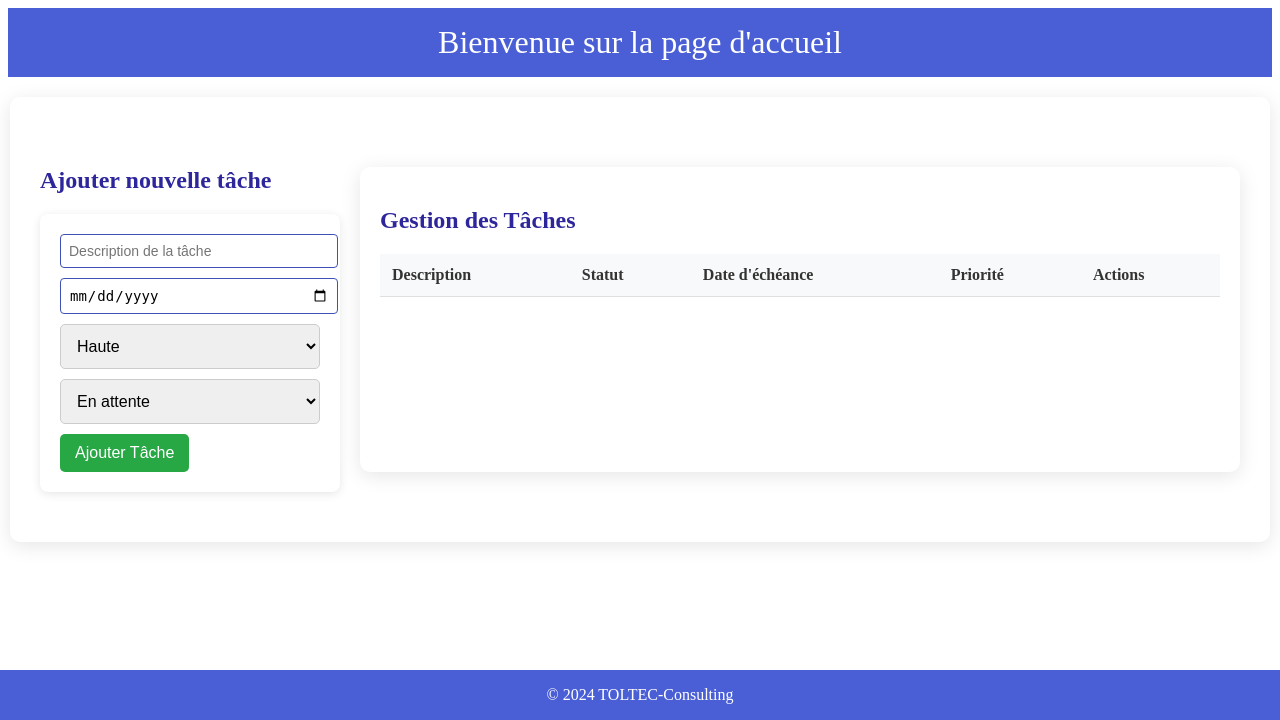
Test: Task Manager E2E Tests › should delete a task
# Ajoute une tâche
Type "Tâche à supprimer" into the field named "description" at (199, 251), box [60, 234, 338, 268]
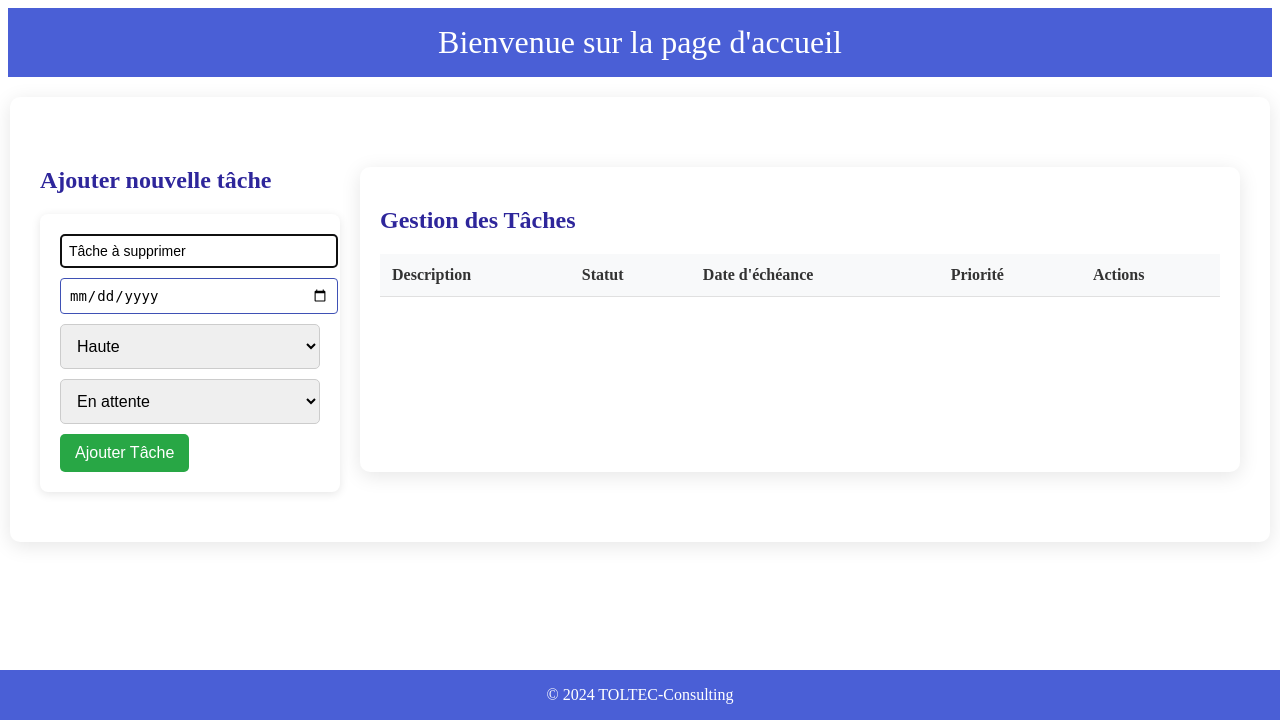
Select "Haute" in the 1st dropdown named "priority" at (190, 347), box [60, 324, 320, 369]
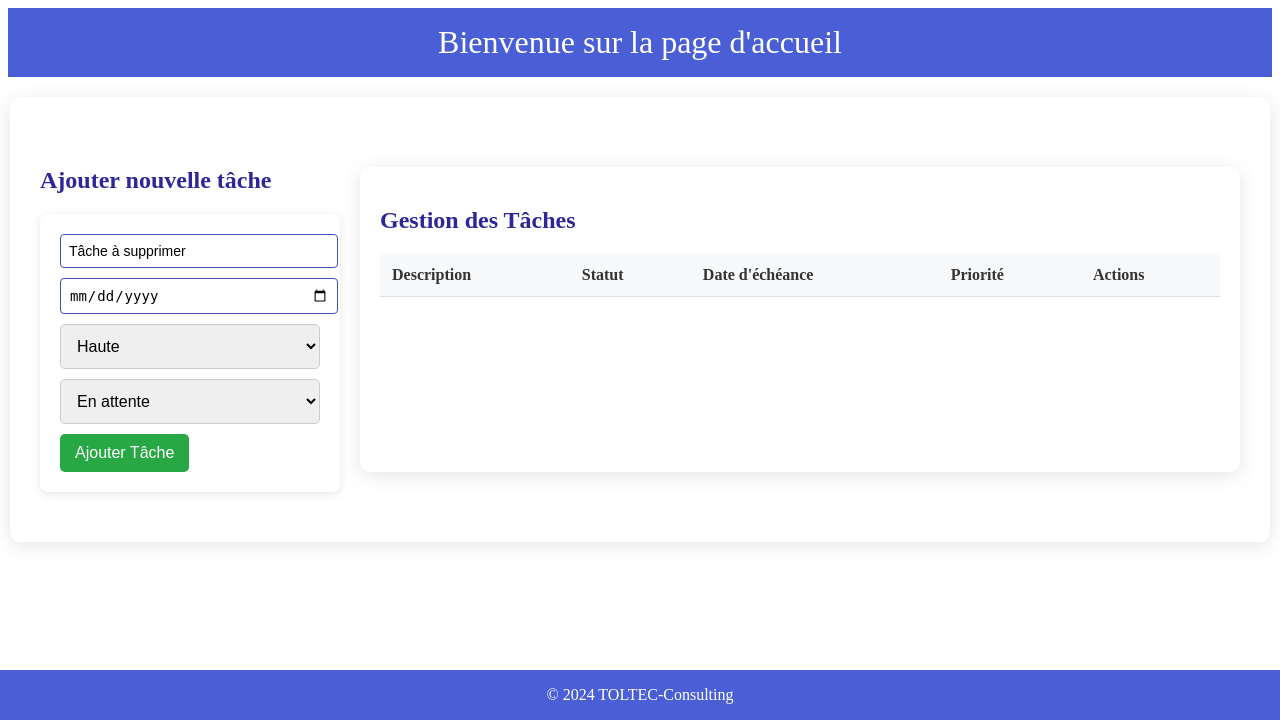
Click the submit button at (125, 453), box [60, 434, 189, 472]
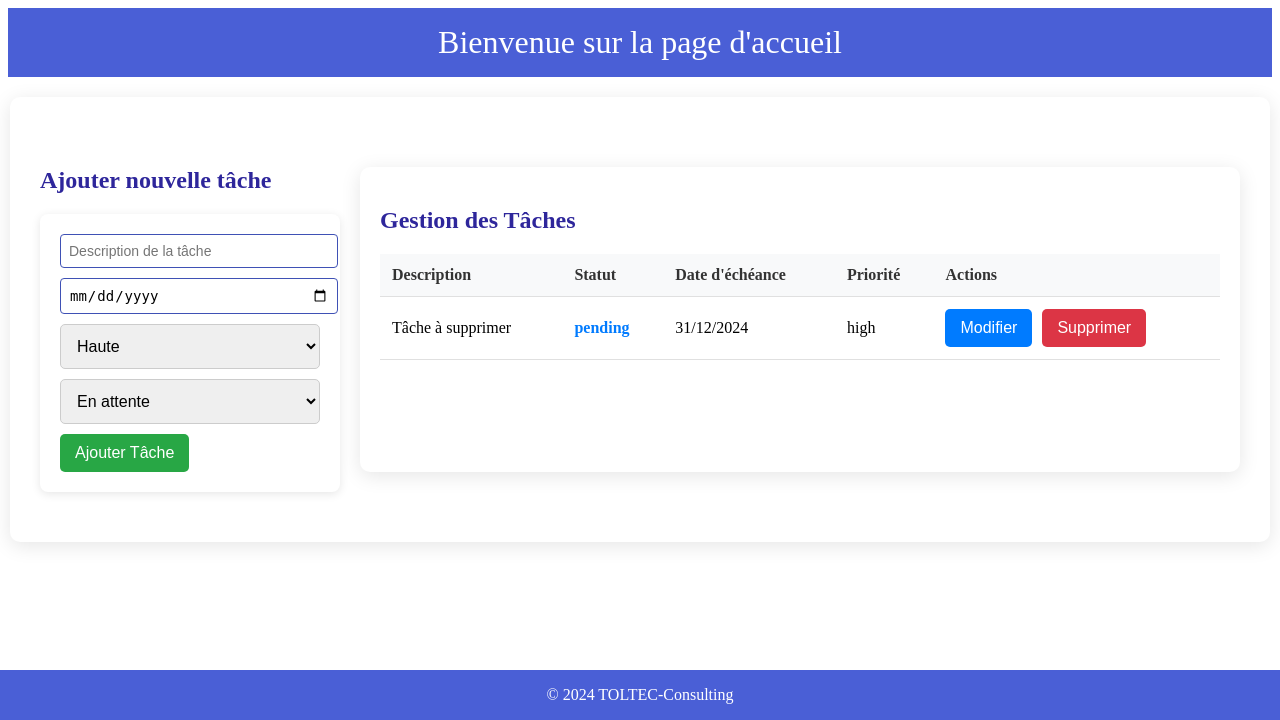
# Supprime la tâche
Click the button with class "btn-delete" at (1094, 328), box [1042, 309, 1146, 347]
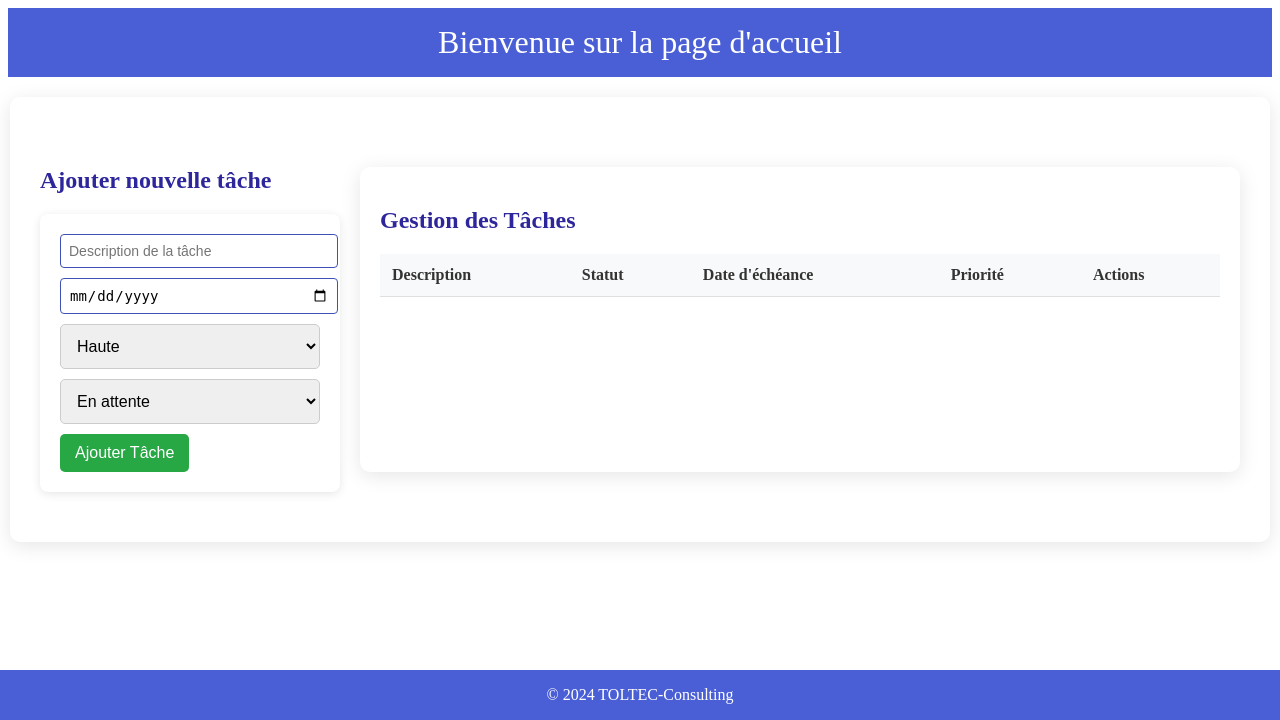
Expected: the cell with class "task-list-container" no longer shows "Tâche à supprimer"
